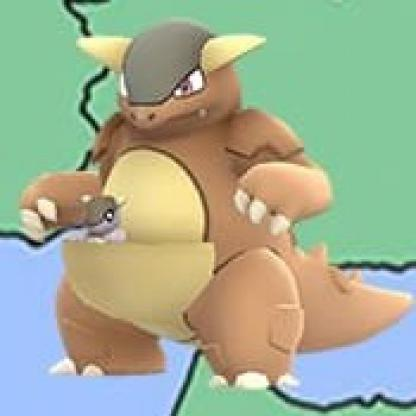Kangaskhan: (30, 30, 415, 393)
